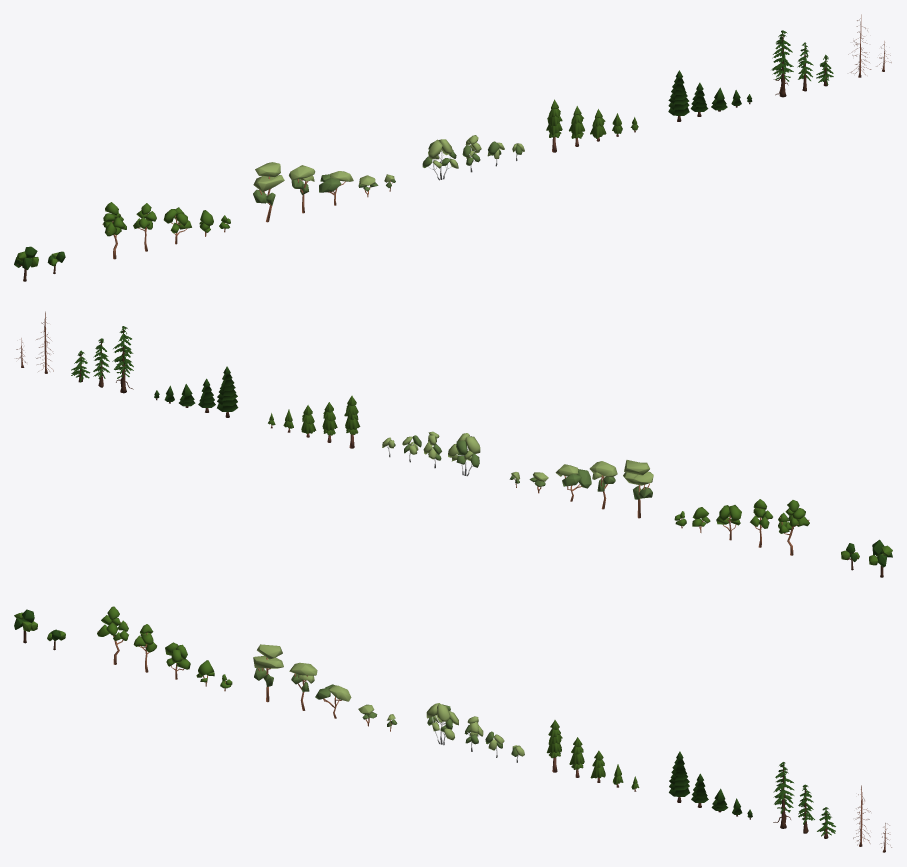
Rendered from Trees_Smooth.fbx.
The picture shows the model from 3 angles, top to bottom: view 1: azimuth 30°, elevation 25°; view 2: azimuth 150°, elevation 25°; view 3: azimuth 330°, elevation 25°; orthographic projection.
Visible parts, largest first — view 1: Tree_Smooth_Type 6_05, Tree_Smooth_Type 5_04, Tree_Smooth_Type 2_03, Tree_Smooth_Type 3_05, Tree_Smooth_Type 7_05, Tree_Smooth_Type 6_04, Tree_Smooth_Type 6_03; view 2: Tree_Smooth_Type 6_05, Tree_Smooth_Type 5_04, Tree_Smooth_Type 7_05, Tree_Smooth_Type 2_03, Tree_Smooth_Type 3_05, Tree_Smooth_Type 6_03, Tree_Smooth_Type 6_04; view 3: Tree_Smooth_Type 6_05, Tree_Smooth_Type 5_04, Tree_Smooth_Type 7_05, Tree_Smooth_Type 2_03, Tree_Smooth_Type 3_05, Tree_Smooth_Type 6_04, Tree_Smooth_Type 7_03.
Boxes of the visible parts, x1,y1,x2,y2 form: Tree_Smooth_Type 6_05: (253, 162, 284, 222); Tree_Smooth_Type 5_04: (422, 139, 458, 180); Tree_Smooth_Type 2_03: (771, 30, 793, 97); Tree_Smooth_Type 3_05: (668, 70, 689, 121); Tree_Smooth_Type 7_05: (102, 202, 126, 259); Tree_Smooth_Type 6_04: (289, 165, 315, 213); Tree_Smooth_Type 6_03: (319, 171, 353, 205); Tree_Smooth_Type 6_05: (623, 460, 653, 518); Tree_Smooth_Type 5_04: (448, 433, 480, 476); Tree_Smooth_Type 7_05: (778, 500, 809, 555); Tree_Smooth_Type 2_03: (112, 326, 133, 393); Tree_Smooth_Type 3_05: (217, 366, 238, 417); Tree_Smooth_Type 6_03: (555, 464, 591, 501); Tree_Smooth_Type 6_04: (589, 461, 617, 509); Tree_Smooth_Type 6_05: (253, 644, 283, 702); Tree_Smooth_Type 5_04: (426, 703, 458, 745); Tree_Smooth_Type 7_05: (97, 606, 128, 664); Tree_Smooth_Type 2_03: (773, 762, 794, 828); Tree_Smooth_Type 3_05: (669, 751, 689, 802); Tree_Smooth_Type 6_04: (289, 662, 317, 710); Tree_Smooth_Type 7_03: (165, 642, 190, 679).
Bounding box in the file's own units: 11814 × 851 × 351.
